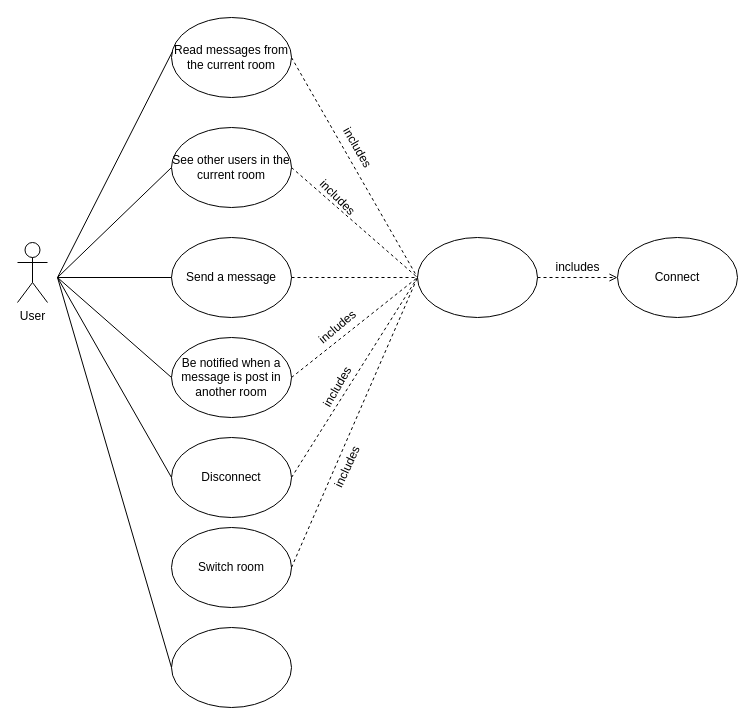
The diagram is 755 pixels wide and 725 high, and some of its shapes have lost their labels. Here are the shapes that lost their labels. From the top down, the box of each, then its label:
(416, 236, 538, 318): Join a room
(170, 626, 292, 708): Play / Pause ambiant music
